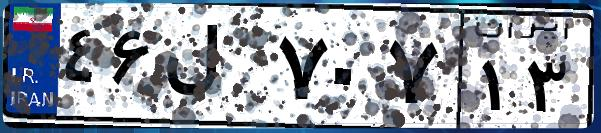0: (330, 28, 385, 110)
1: (475, 38, 525, 113)
3: (525, 38, 570, 115)
4: (57, 26, 110, 100)
6: (110, 28, 158, 98)
7: (270, 28, 330, 110), (385, 28, 445, 110)
ل: (158, 20, 270, 120)
